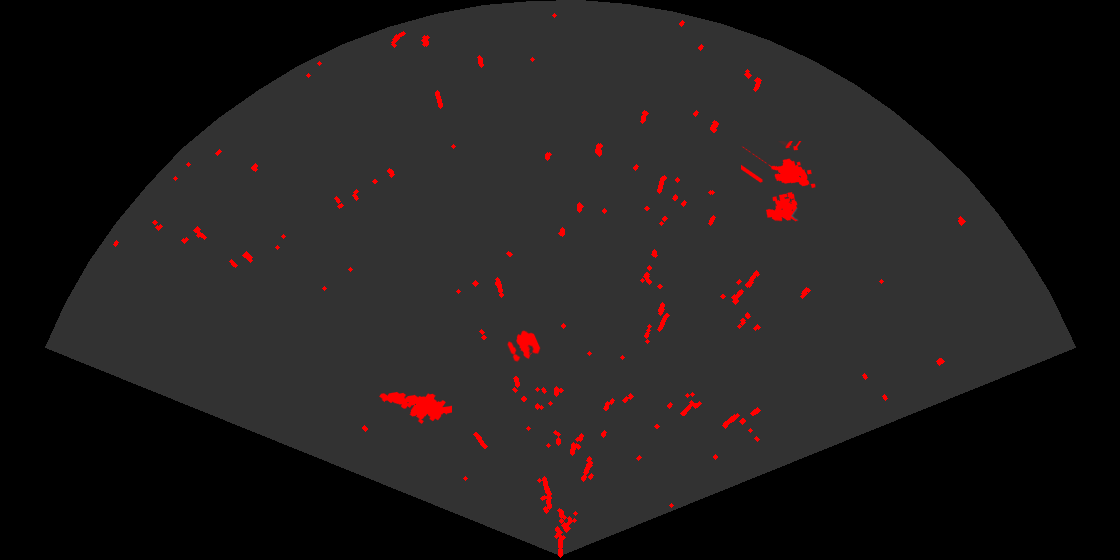ball: (506, 329, 542, 364)
cage: (741, 141, 817, 223)
frogman: (378, 390, 452, 426)
